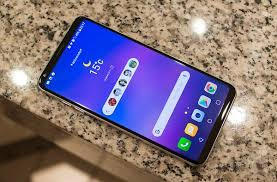lg: (31, 13, 235, 167)
